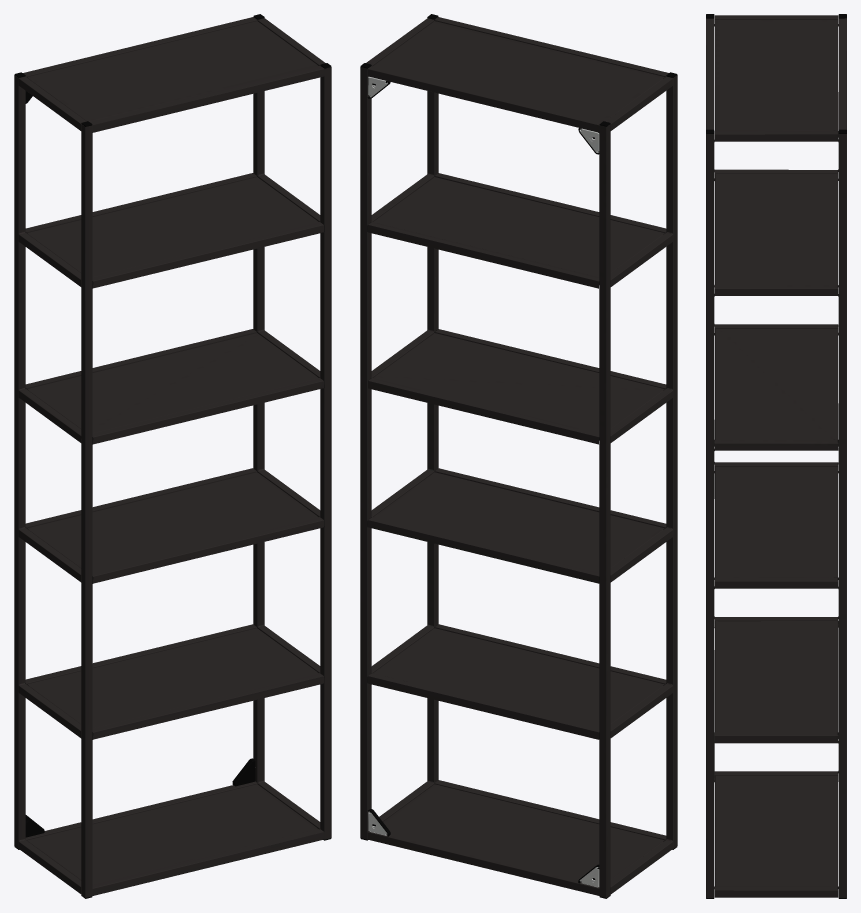
Rendered from enhet_obudowa_wysoka_z_pokami_70448964.glb.
The picture shows the model from 3 angles, left to right: view 1: azimuth 30°, elevation 25°; view 2: azimuth 150°, elevation 25°; view 3: azimuth 270°, elevation 25°; orthographic projection.
Parts seen in each view (by area): view 1: enhet_obudowa_wysoka_z_pokami_70448964; view 2: enhet_obudowa_wysoka_z_pokami_70448964; view 3: enhet_obudowa_wysoka_z_pokami_70448964.
Part boxes in pixels (x1,y1,x2,y2): enhet_obudowa_wysoka_z_pokami_70448964: (14, 14, 331, 898); enhet_obudowa_wysoka_z_pokami_70448964: (360, 14, 677, 898); enhet_obudowa_wysoka_z_pokami_70448964: (706, 14, 846, 898).
Size of the model in its own units: 0.6001 by 1.8 by 0.3001.
1 material, 1 textured.
